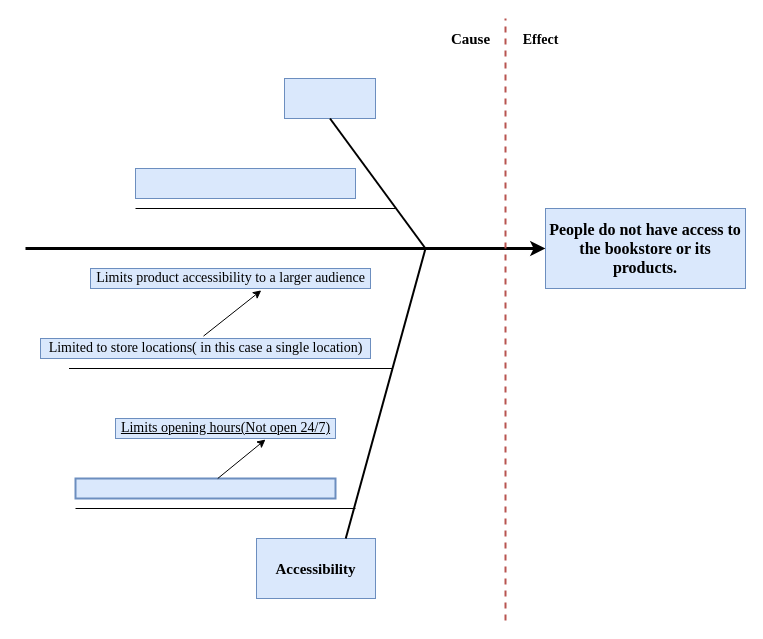
This 763x639 diagram has some shape labels left out. Each missing label, with the centre of its shape:
"Health Risks" belongs at [330,98].
"Selling product exclusively in store presents a greater risk of contagion." belongs at [245,183].
"Store depends exclusively on in-store sales." belongs at [205,488].
